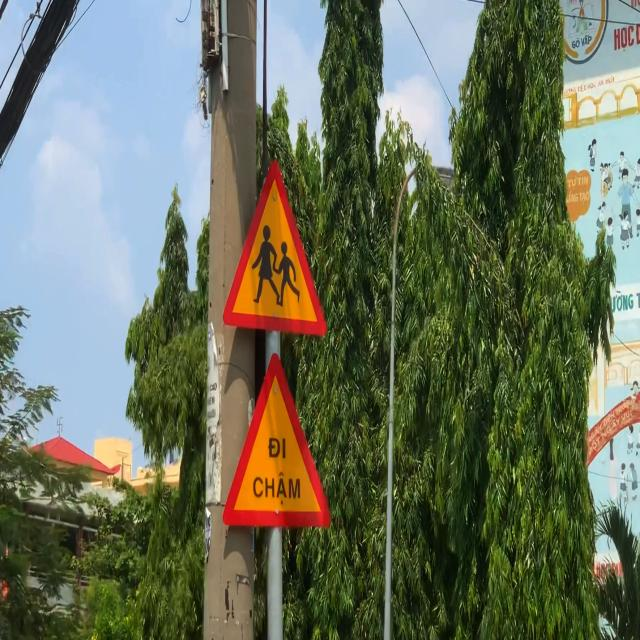Nguy hiem: (222, 352, 333, 528), (221, 158, 328, 337)
